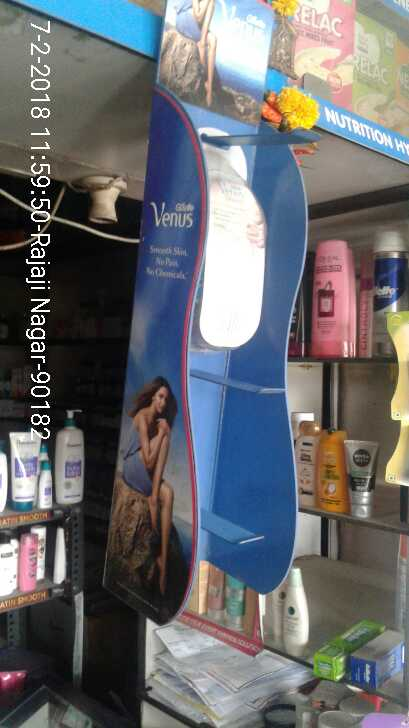reject: (151, 156, 291, 484)
